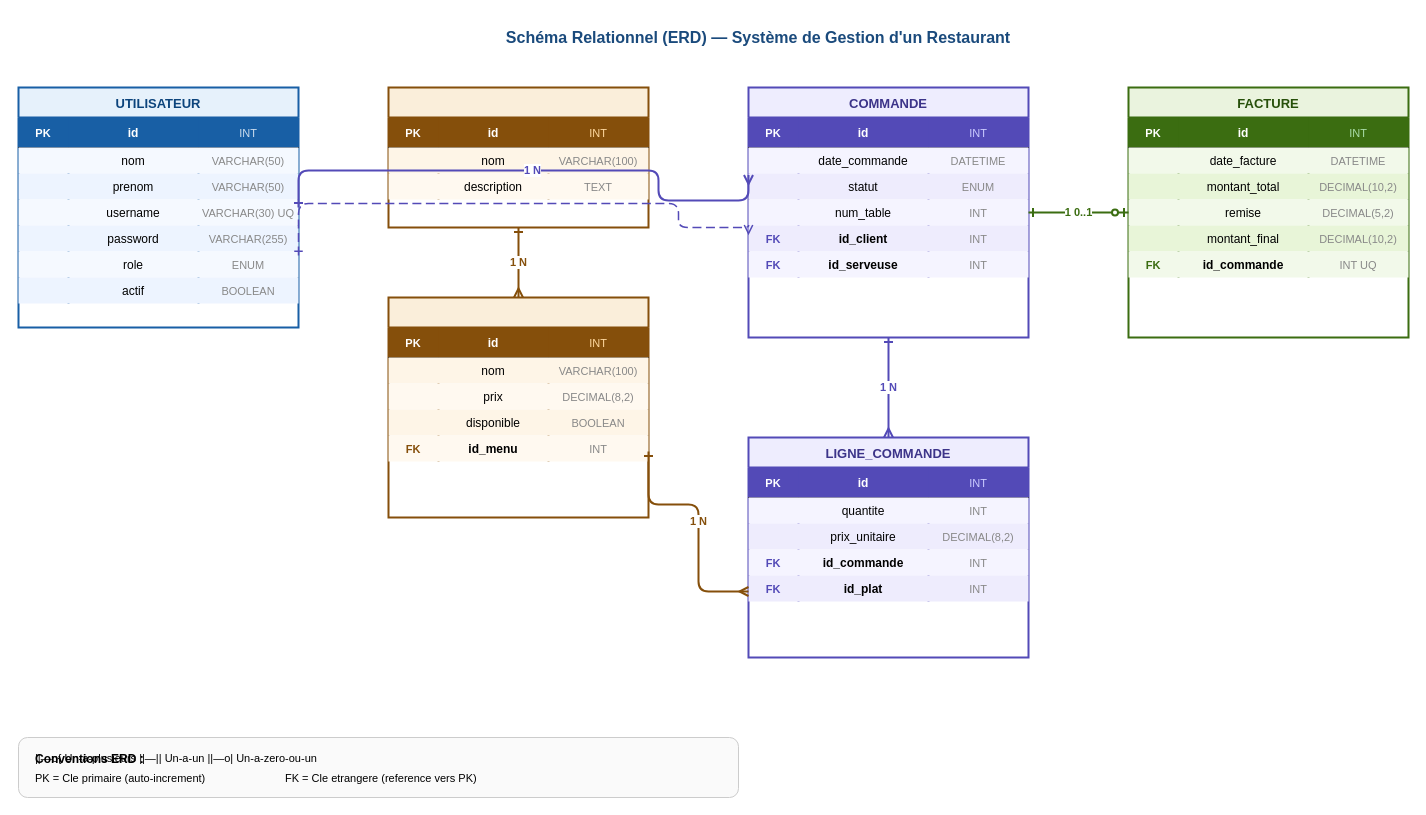
Some shapes in this 1426 by 815 pixel diagram are drawn without their labels. Here are the shapes that lost their labels. From the top down, the box of each, then its label:
(387, 86, 649, 228): MENU
(387, 296, 649, 518): PLAT
